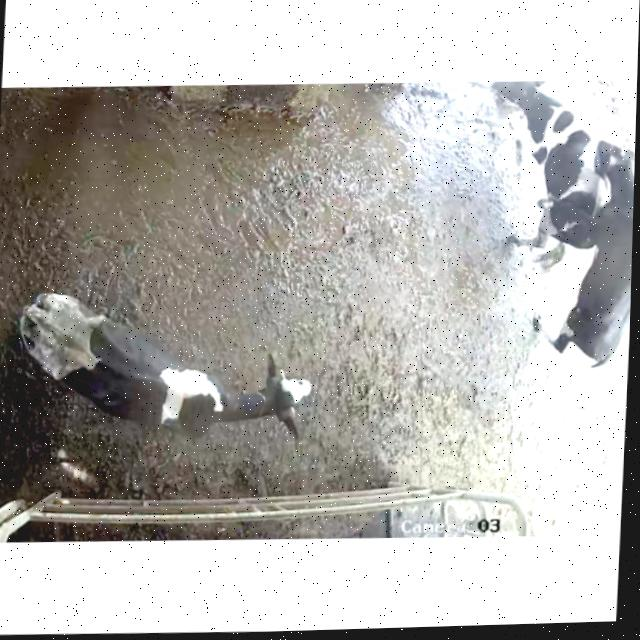ride: (525, 119, 636, 400)
